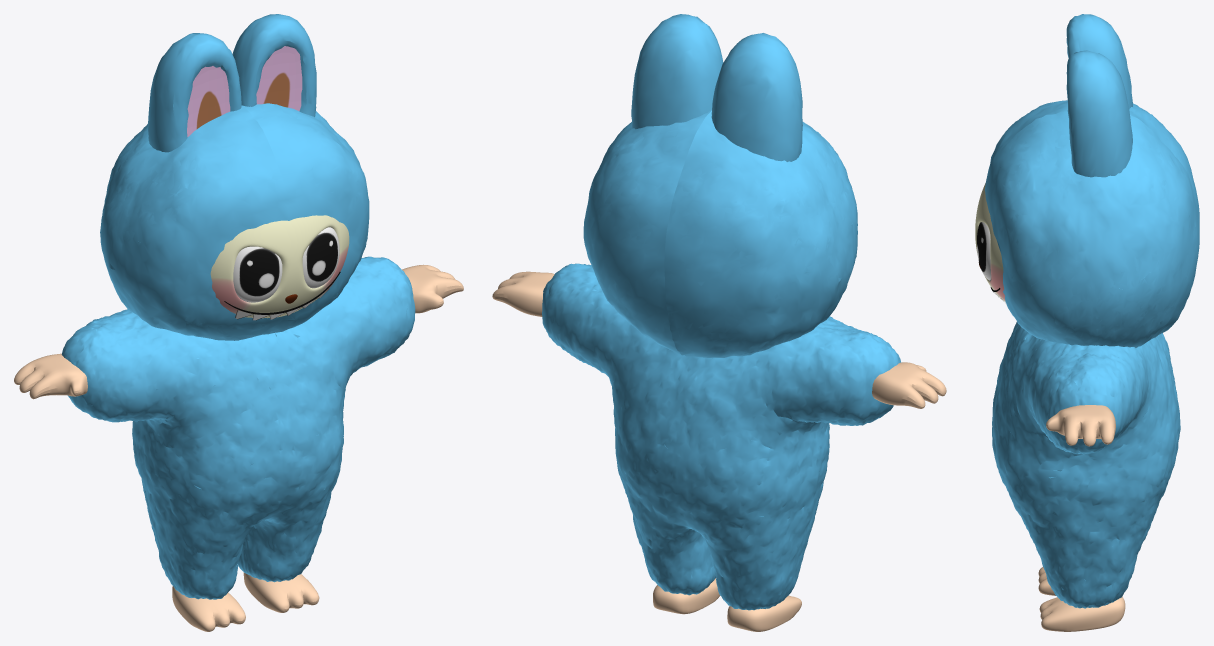
Rendered from labubu.glb.
3 views of the same model, side by side, from view 1: azimuth 30°, elevation 25°; view 2: azimuth 150°, elevation 25°; view 3: azimuth 270°, elevation 25° (orthographic). The views are drawn at different scales.
Visible parts, largest first — view 1: Object_4, Object_9, Object_5, Object_8, Object_6, Object_7; view 2: Object_4, Object_8, Object_7; view 3: Object_4, Object_7, Object_8, Object_9, Object_6.
Part boxes in pixels (x1=…): Object_4: x1=61, y1=14, x2=415, y2=599; Object_9: x1=210, y1=215, x2=349, y2=318; Object_5: x1=187, y1=46, x2=302, y2=136; Object_8: x1=14, y1=264, x2=463, y2=399; Object_6: x1=233, y1=227, x2=339, y2=302; Object_7: x1=172, y1=572, x2=319, y2=631; Object_4: x1=542, y1=14, x2=901, y2=610; Object_8: x1=492, y1=271, x2=946, y2=408; Object_7: x1=653, y1=578, x2=801, y2=631; Object_4: x1=984, y1=14, x2=1199, y2=608; Object_7: x1=1038, y1=567, x2=1125, y2=631; Object_8: x1=1046, y1=405, x2=1115, y2=446; Object_9: x1=975, y1=183, x2=1005, y2=301; Object_6: x1=977, y1=222, x2=991, y2=280.
Size of the model in its own units: 0.5339 by 0.6819 by 0.2443.
10 materials, 10 textured.
